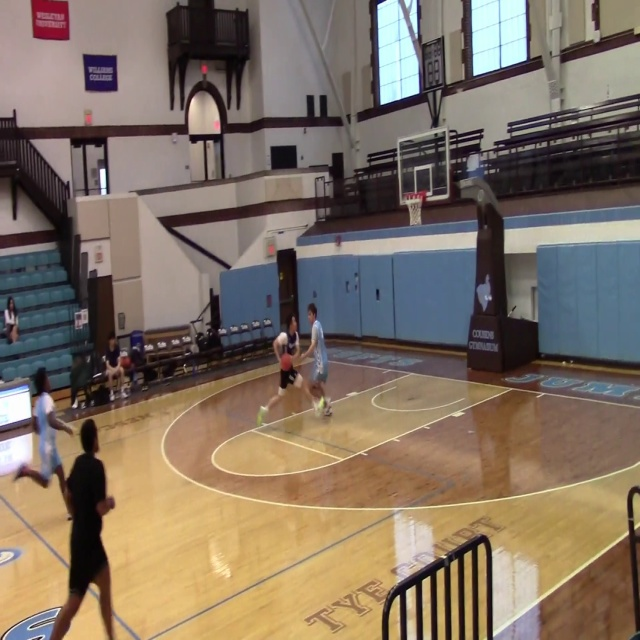Basketball: (280, 354, 292, 371), (120, 356, 132, 369)
